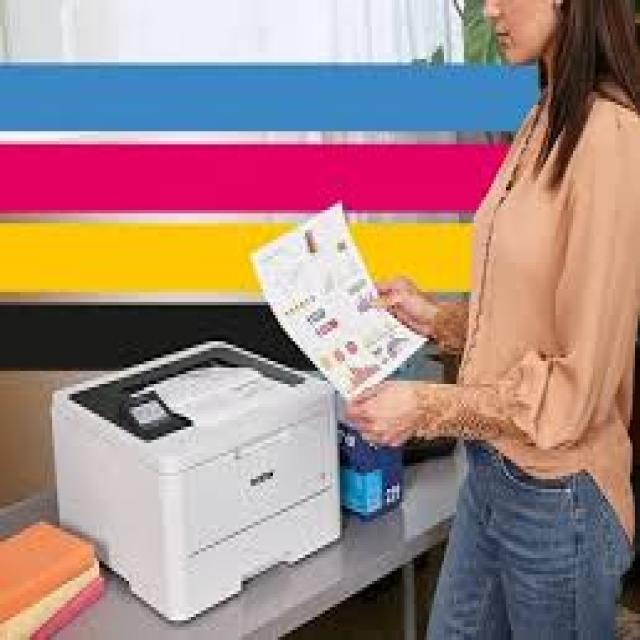printer: (47, 338, 342, 624)
